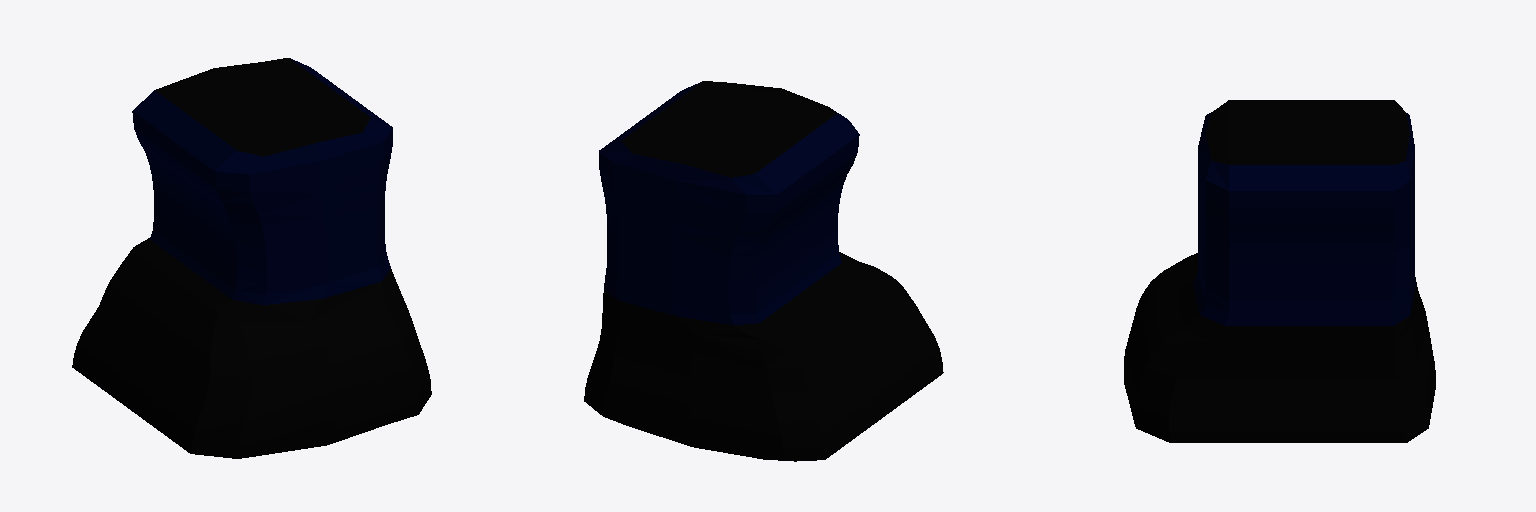
The model's file is R_leg.obj.
3 renders of one model, left to right at view 1: azimuth 30°, elevation 25°; view 2: azimuth 150°, elevation 25°; view 3: azimuth 270°, elevation 25°, orthographic.
Visible parts, largest first — view 1: R_leg:Mesh; view 2: R_leg:Mesh; view 3: R_leg:Mesh.
Part boxes in pixels (x1,y1,x2,y2): R_leg:Mesh: (72,58,431,458); R_leg:Mesh: (584,81,943,461); R_leg:Mesh: (1124,100,1435,442).
Size of the model in its own units: 0.6193 by 0.6863 by 0.6958.